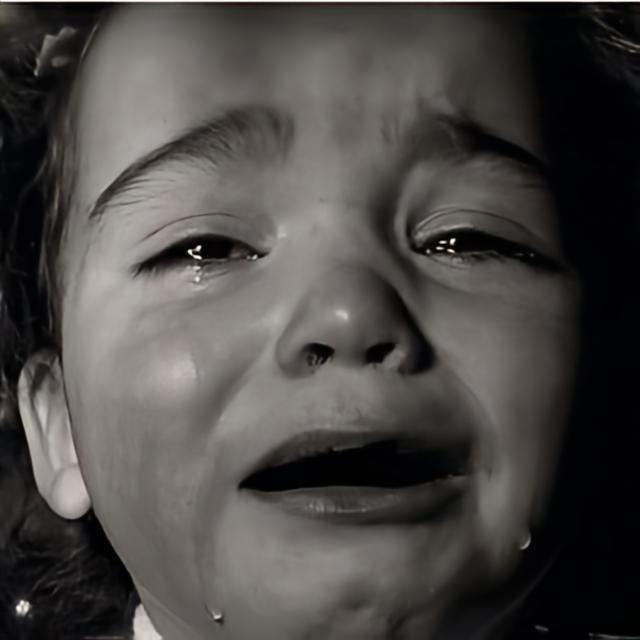sad: (63, 1, 583, 640)
